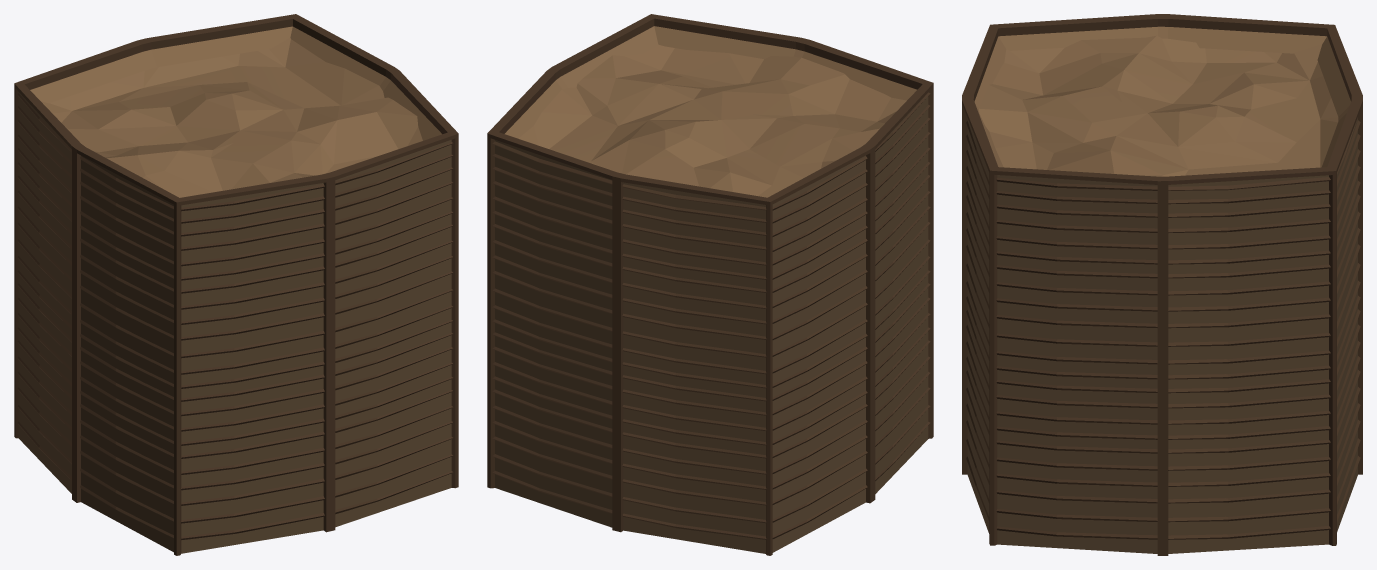
The model's file is SM_Bag_Of_Squeak_01.glb.
The picture shows the model from 3 angles, left to right: view 1: azimuth 30°, elevation 25°; view 2: azimuth 150°, elevation 25°; view 3: azimuth 270°, elevation 25°; orthographic projection. The views are drawn at different scales.
Visible parts, largest first — view 1: SM_Bag_Of_Squeak_01; view 2: SM_Bag_Of_Squeak_01; view 3: SM_Bag_Of_Squeak_01.
Part boxes in pixels (x1=…): SM_Bag_Of_Squeak_01: x1=14, y1=14, x2=458, y2=555; SM_Bag_Of_Squeak_01: x1=487, y1=14, x2=933, y2=555; SM_Bag_Of_Squeak_01: x1=962, y1=14, x2=1362, y2=555.
Size of the model in its own units: 1.74 by 1.82 by 1.77.
Materials: 1 (1 with a texture image).
